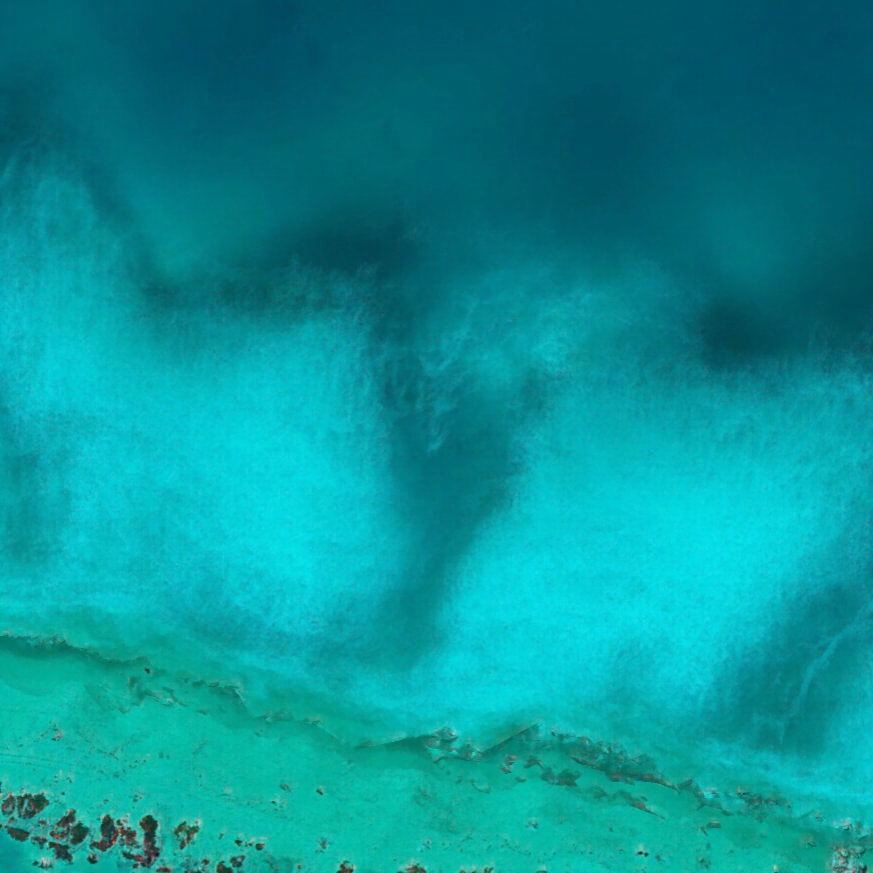rip_current: (287, 255, 569, 711)
